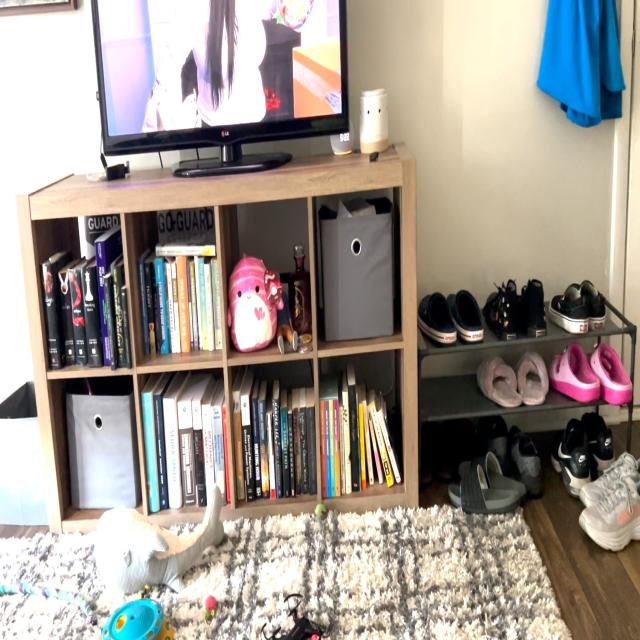drone: (255, 590, 345, 640)
